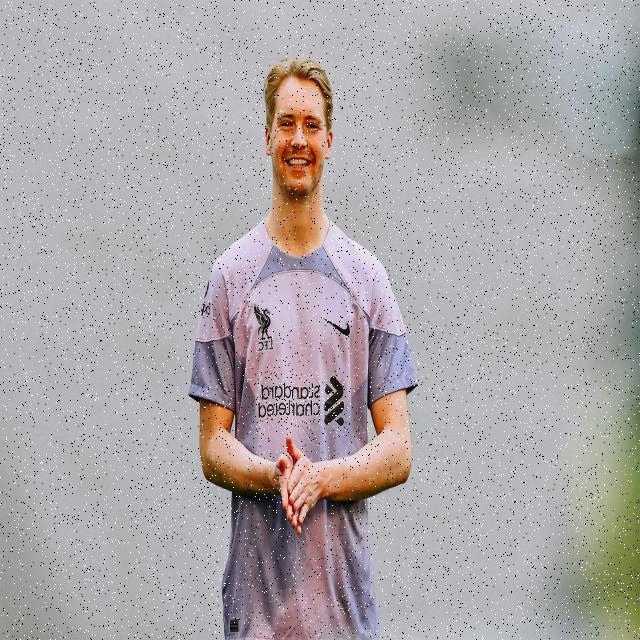Nike: (324, 314, 350, 337)
Standard Chartered: (256, 373, 348, 435)
